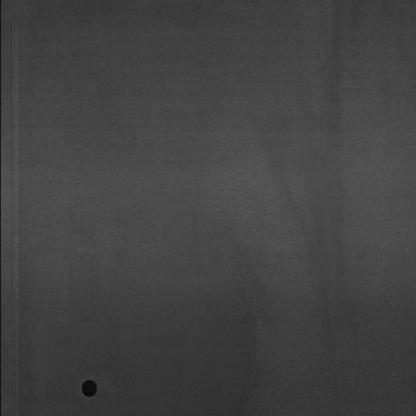punching_hole: (76, 376, 99, 400)
welding_line: (4, 2, 26, 413)
